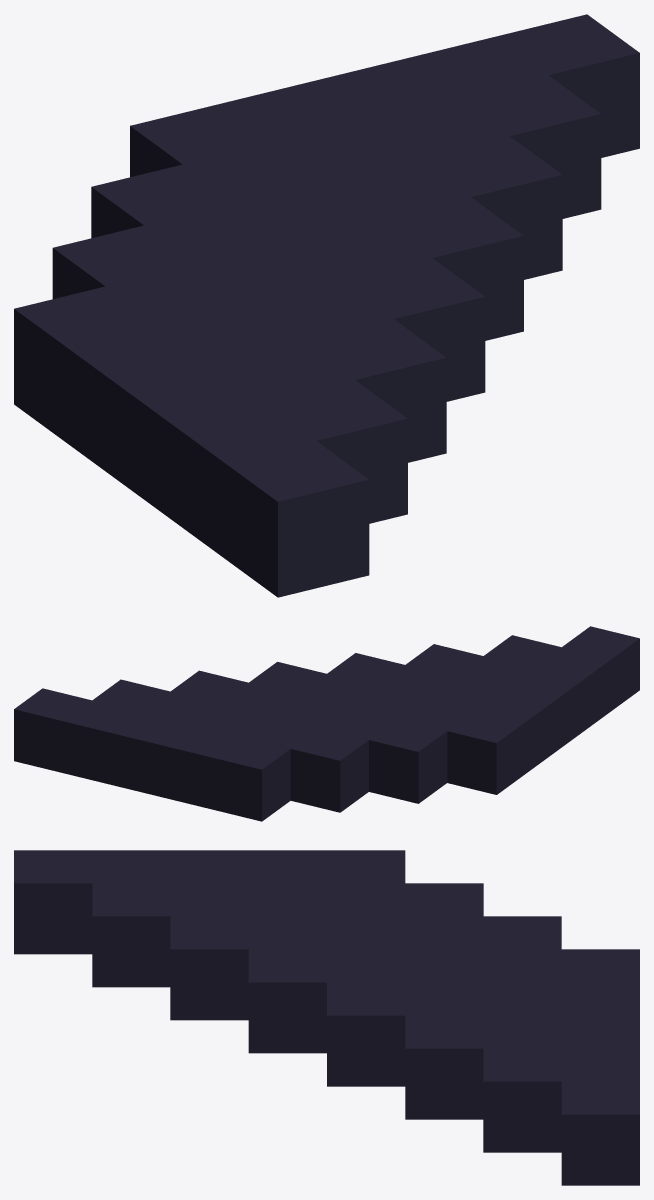
Rendered from rail 90 3.gltf.
3 views of the same model, one above another, from view 1: azimuth 30°, elevation 25°; view 2: azimuth 150°, elevation 25°; view 3: azimuth 270°, elevation 25° (orthographic). The views are drawn at different scales.
Parts seen in each view (by area): view 1: rail 90 3; view 2: rail 90 3; view 3: rail 90 3.
Boxes of the visible parts, x1=… form: rail 90 3: x1=14, y1=14, x2=639, y2=597; rail 90 3: x1=14, y1=626, x2=639, y2=821; rail 90 3: x1=14, y1=850, x2=639, y2=1185.
Size of the model in its own units: 8 by 1 by 8.
1 material, 1 textured.
